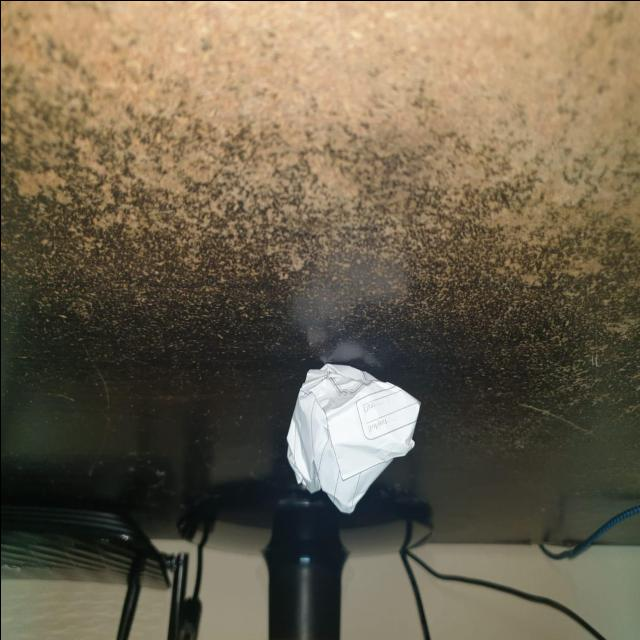kertas: (282, 347, 422, 520)
